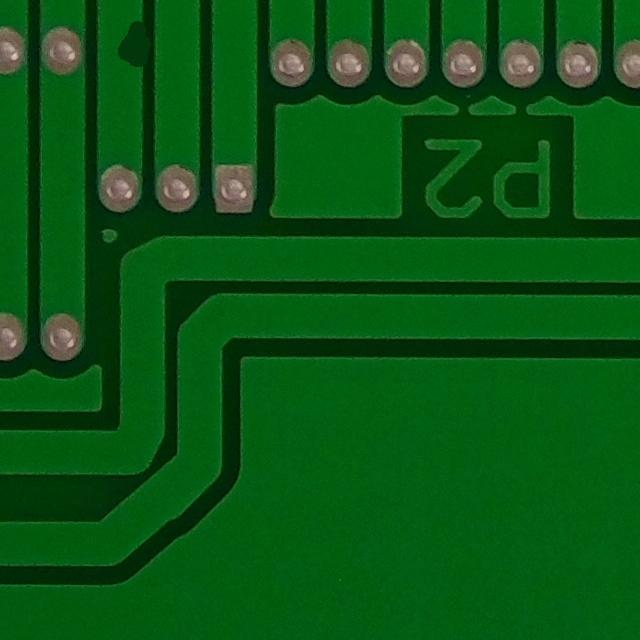mouse_bite: (95, 6, 157, 84)
